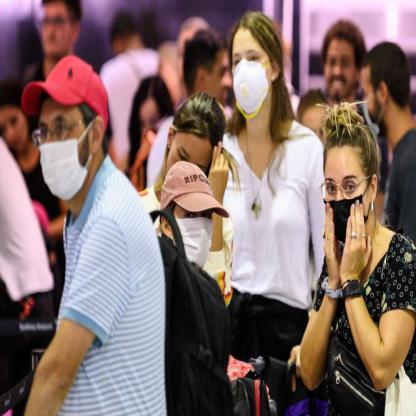Not_Wearing_Mask: (327, 42, 355, 99), (41, 4, 68, 54), (0, 106, 26, 155), (206, 52, 230, 104)
Wearing_Mask: (38, 108, 88, 202), (324, 153, 362, 241), (231, 41, 269, 118), (174, 200, 214, 270), (362, 70, 383, 130)
